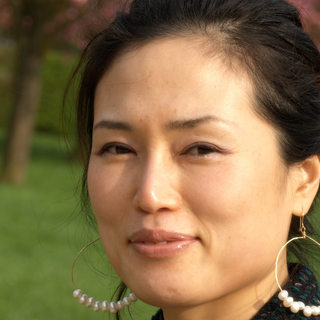eye: (175, 138, 226, 162), (93, 139, 142, 162)
